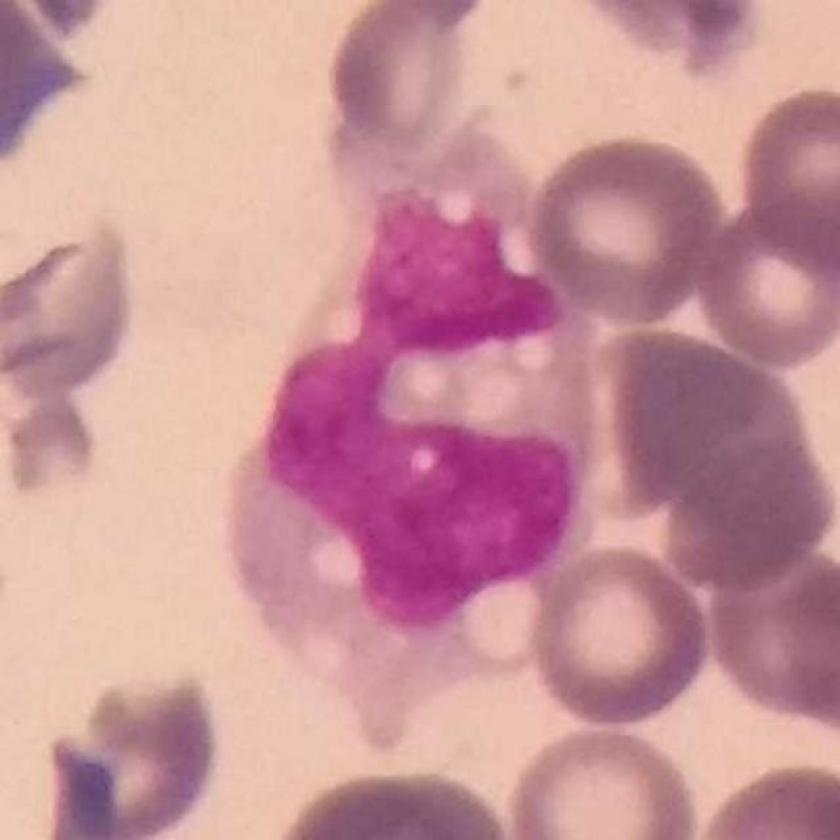monocyte: (222, 117, 605, 747)
